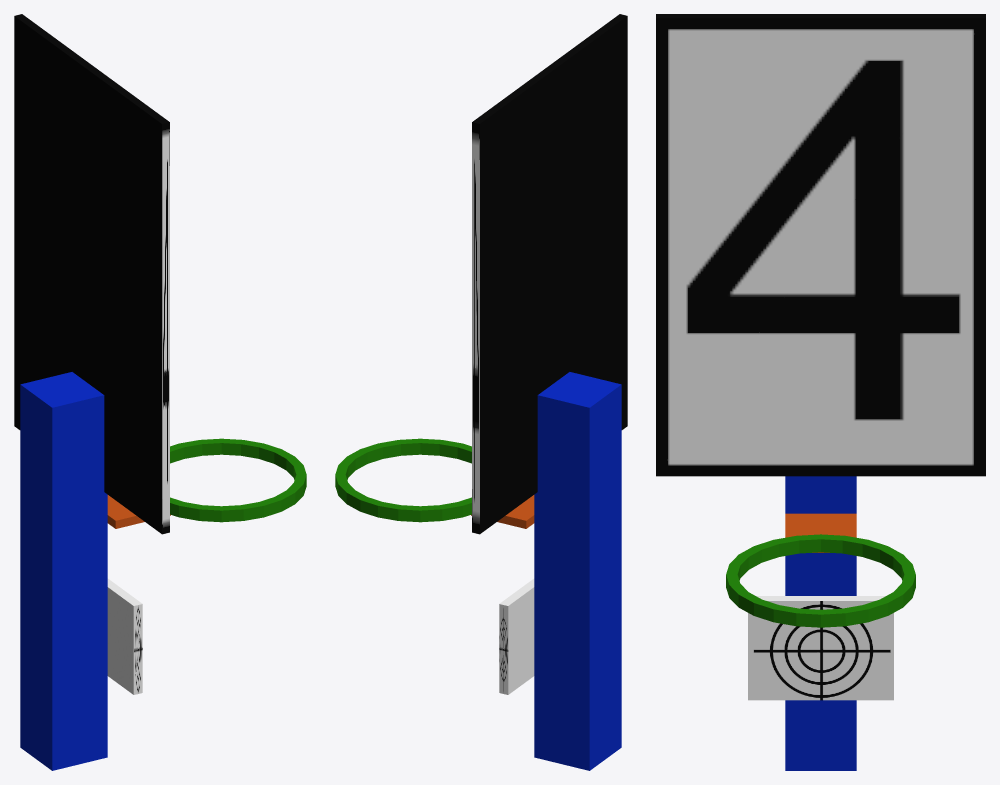
Rendered from sick_robot_day_2014_target_station_complete_4.dae.
3 views of the same model, side by side, from view 1: azimuth 30°, elevation 25°; view 2: azimuth 150°, elevation 25°; view 3: azimuth 270°, elevation 25° (orthographic). The views are drawn at different scales.
Parts seen in each view (by area): view 1: Cube, Cube_003, Cylinder, Cube_001, Cube_004; view 2: Cube, Cube_003, Cylinder, Cube_001, Cube_004; view 3: Cube, Cube_001, Cube_003, Cylinder, Cube_004.
Part boxes in pixels (<box>): Cube: <box>14,14,169,534</box>; Cube_003: <box>20,372,107,770</box>; Cylinder: <box>170,438,306,522</box>; Cube_001: <box>107,578,142,694</box>; Cube_004: <box>107,495,170,528</box>; Cube: <box>472,14,627,534</box>; Cube_003: <box>534,372,621,770</box>; Cylinder: <box>335,438,471,522</box>; Cube_001: <box>499,578,534,694</box>; Cube_004: <box>471,495,534,528</box>; Cube: <box>656,14,985,476</box>; Cube_001: <box>748,596,893,700</box>; Cube_003: <box>785,476,856,770</box>; Cylinder: <box>726,534,915,627</box>; Cube_004: <box>785,513,856,552</box>.
Size of the model in its own units: 0.5801 by 0.5736 by 1.45.
5 materials, 2 textured.
